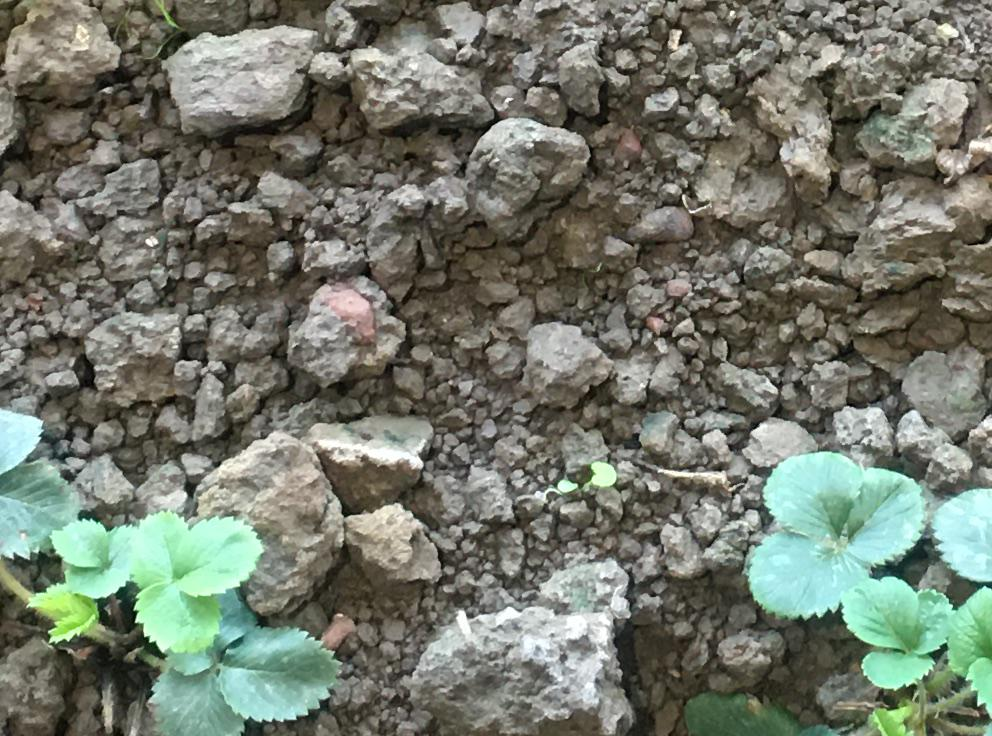block: (403, 610, 632, 736), (190, 429, 340, 617), (160, 26, 314, 135), (463, 114, 573, 246), (282, 272, 410, 384), (344, 43, 494, 136), (7, 1, 131, 106), (307, 404, 428, 505)
